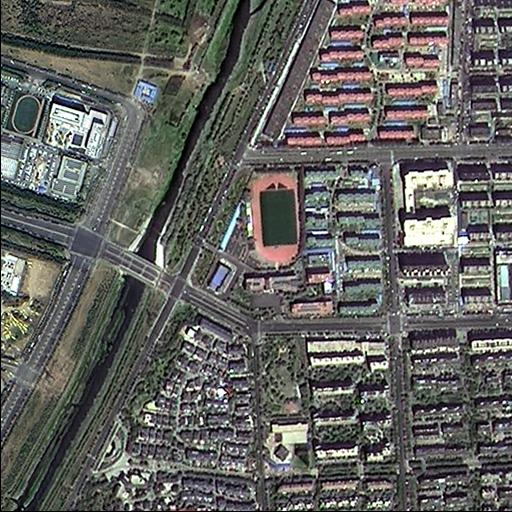school: (191, 167, 330, 316)
